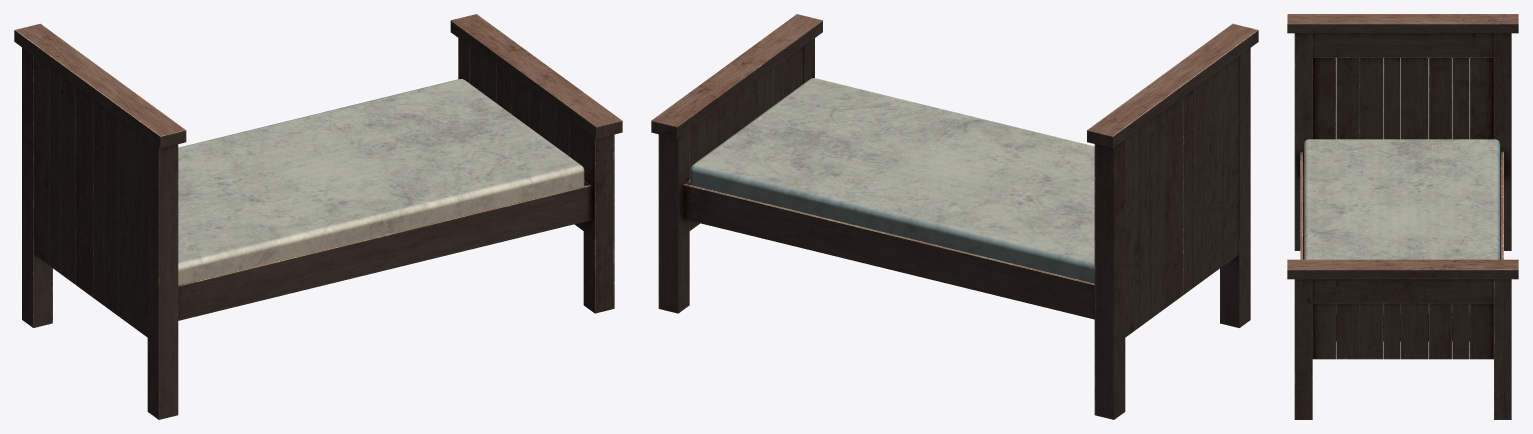
File: Old_bed.obj
The picture shows the model from 3 angles, left to right: view 1: azimuth 30°, elevation 25°; view 2: azimuth 150°, elevation 25°; view 3: azimuth 270°, elevation 25°; orthographic projection. The views are drawn at different scales.
Visible parts, largest first — view 1: Old_bed:Mesh polySurface54, Old_bed:Mesh polySurface44, Old_bed:Mesh polySurface6, Old_bed:Mesh polySurface30, Old_bed:Mesh polySurface31, Old_bed:Mesh polySurface42, Old_bed:Mesh polySurface53, polySurface11 Old_bed:Mesh, Old_bed:Mesh polySurface5, Old_bed:Mesh polySurface7, Old_bed:Mesh polySurface40, Old_bed:Mesh polySurface10 (+9 smaller); view 2: Old_bed:Mesh polySurface54, Old_bed:Mesh polySurface44, Old_bed:Mesh polySurface53, Old_bed:Mesh polySurface31, Old_bed:Mesh polySurface30, Old_bed:Mesh polySurface50, Old_bed:Mesh polySurface6, polySurface11 Old_bed:Mesh, Old_bed:Mesh polySurface7, Old_bed:Mesh polySurface48, Old_bed:Mesh polySurface40, Old_bed:Mesh polySurface10 (+9 smaller); view 3: Old_bed:Mesh polySurface54, Old_bed:Mesh polySurface30, Old_bed:Mesh polySurface31, Old_bed:Mesh polySurface29, Old_bed:Mesh polySurface43, Old_bed:Mesh polySurface53, Old_bed:Mesh polySurface6, Old_bed:Mesh polySurface42, Old_bed:Mesh polySurface50, polySurface11 Old_bed:Mesh, Old_bed:Mesh polySurface5, Old_bed:Mesh polySurface40 (+14 smaller).
Part boxes in pixels (bbox=[...]): Old_bed:Mesh polySurface54: bbox=[178, 79, 584, 284]; Old_bed:Mesh polySurface44: bbox=[178, 181, 591, 320]; Old_bed:Mesh polySurface6: bbox=[147, 139, 178, 419]; Old_bed:Mesh polySurface30: bbox=[450, 14, 622, 138]; Old_bed:Mesh polySurface31: bbox=[14, 23, 186, 148]; Old_bed:Mesh polySurface42: bbox=[583, 130, 614, 313]; Old_bed:Mesh polySurface53: bbox=[22, 47, 52, 327]; polySurface11 Old_bed:Mesh: bbox=[75, 87, 92, 297]; Old_bed:Mesh polySurface5: bbox=[34, 56, 49, 265]; Old_bed:Mesh polySurface7: bbox=[60, 76, 75, 284]; Old_bed:Mesh polySurface40: bbox=[119, 118, 133, 327]; Old_bed:Mesh polySurface10: bbox=[104, 107, 118, 316]; Old_bed:Mesh polySurface54: bbox=[690, 78, 1094, 283]; Old_bed:Mesh polySurface44: bbox=[683, 179, 1094, 319]; Old_bed:Mesh polySurface53: bbox=[1094, 140, 1125, 419]; Old_bed:Mesh polySurface31: bbox=[1087, 23, 1258, 148]; Old_bed:Mesh polySurface30: bbox=[651, 14, 822, 138]; Old_bed:Mesh polySurface50: bbox=[658, 130, 689, 313]; Old_bed:Mesh polySurface6: bbox=[1220, 48, 1250, 327]; polySurface11 Old_bed:Mesh: bbox=[1165, 97, 1182, 307]; Old_bed:Mesh polySurface7: bbox=[1150, 110, 1165, 318]; Old_bed:Mesh polySurface48: bbox=[1223, 57, 1238, 265]; Old_bed:Mesh polySurface40: bbox=[1208, 68, 1223, 276]; Old_bed:Mesh polySurface10: bbox=[1193, 79, 1208, 286]; Old_bed:Mesh polySurface54: bbox=[1304, 139, 1500, 312]; Old_bed:Mesh polySurface30: bbox=[1287, 259, 1518, 279]; Old_bed:Mesh polySurface31: bbox=[1287, 14, 1518, 33]; Old_bed:Mesh polySurface29: bbox=[1312, 33, 1493, 57]; Old_bed:Mesh polySurface43: bbox=[1312, 279, 1493, 303]; Old_bed:Mesh polySurface53: bbox=[1494, 33, 1511, 250]; Old_bed:Mesh polySurface6: bbox=[1294, 33, 1312, 250]; Old_bed:Mesh polySurface42: bbox=[1294, 279, 1312, 419]; Old_bed:Mesh polySurface50: bbox=[1494, 279, 1511, 419]; polySurface11 Old_bed:Mesh: bbox=[1401, 58, 1428, 139]; Old_bed:Mesh polySurface5: bbox=[1470, 58, 1493, 139]; Old_bed:Mesh polySurface40: bbox=[1336, 58, 1359, 139].
Size of the model in its own units: 319 by 190 by 175.
1 material, 1 textured.
